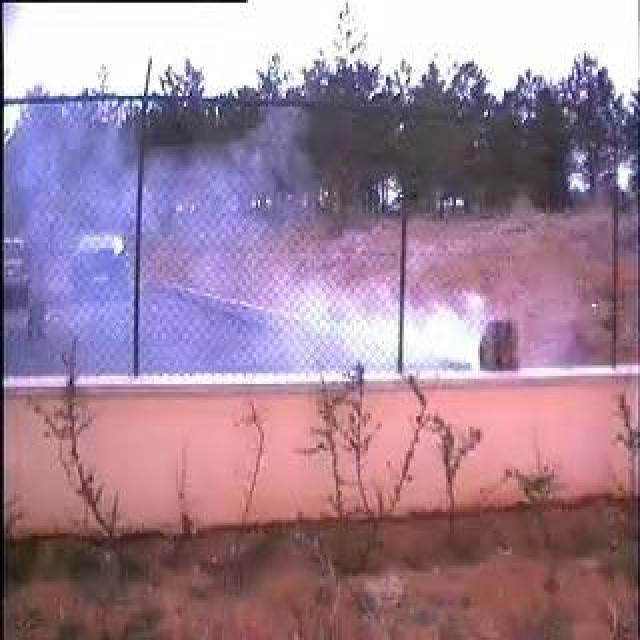Smoke: (164, 179, 478, 368)
